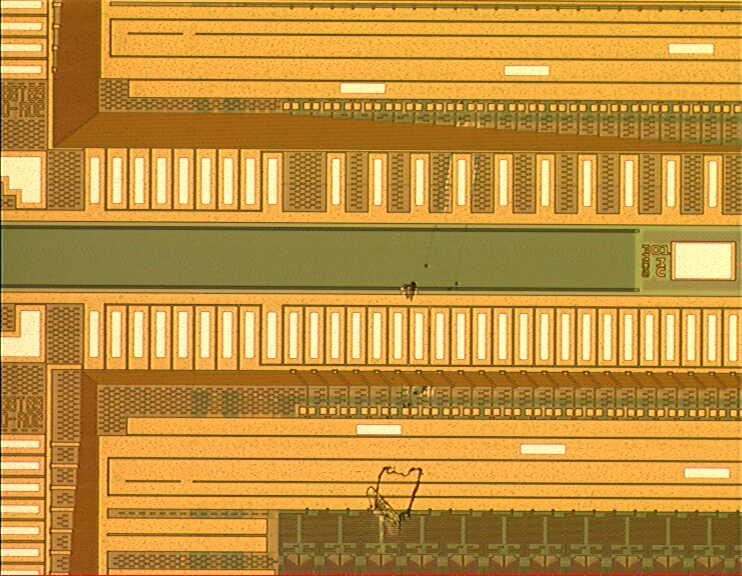SCRATCH: (361, 126, 497, 539)
